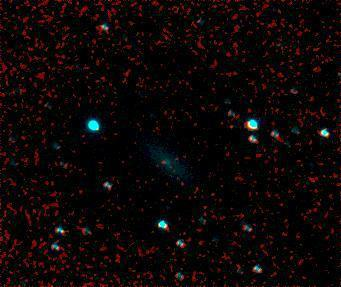star: (215, 110, 245, 140)
